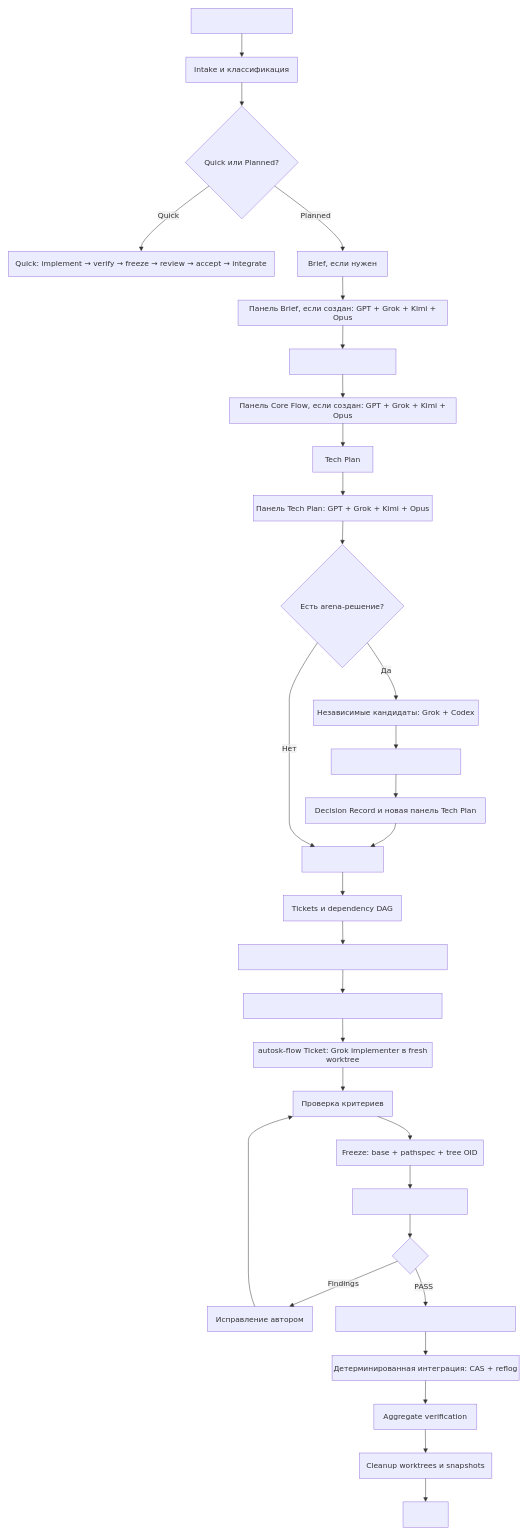
This 527x1535 diagram has some shape labels left out. Here are the shapes that lost their labels. From the top down, the centre of each, then its label:
pixel 242 21: Запрос пользователя
pixel 342 361: Core Flow, если нужен
pixel 396 761: Blind Judge вне candidate set
pixel 342 859: Tech Plan ready
pixel 342 957: Отдельная панель Tickets: GPT + Grok + Kimi + Opus
pixel 342 1006: Ticket tasks: blockers и параллельная готовность
pixel 409 1201: Cross-family review child на pinned snapshot
pixel 410 1255: PASS?
pixel 425 1319: Human accept или разрешённая auto-policy
pixel 425 1514: Done
